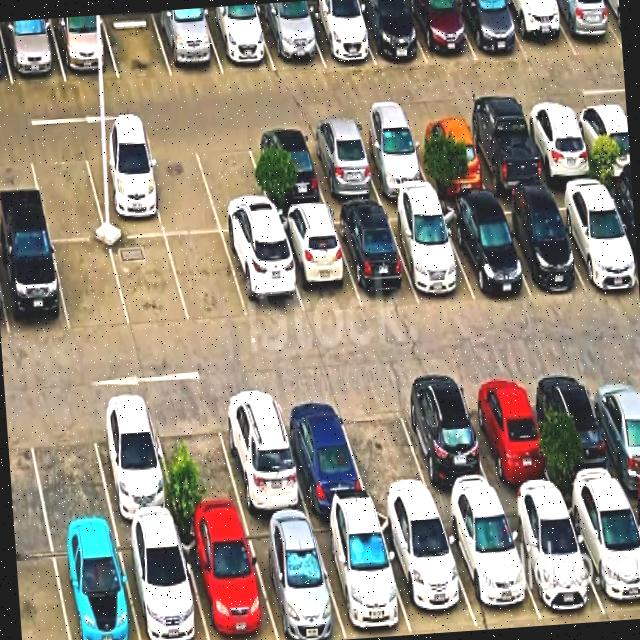empty: (335, 385, 434, 506), (150, 399, 245, 523), (24, 403, 113, 532), (193, 132, 275, 232), (141, 139, 220, 235), (28, 144, 105, 240), (109, 236, 189, 328), (166, 233, 247, 323), (52, 240, 129, 332), (102, 11, 172, 78)
occupied: (394, 378, 499, 506), (310, 511, 411, 639), (500, 498, 605, 620), (438, 502, 541, 626), (459, 373, 558, 500), (243, 518, 346, 640), (375, 509, 477, 632), (214, 388, 308, 518), (179, 521, 277, 640), (275, 390, 369, 513), (87, 400, 178, 526), (532, 369, 623, 495), (116, 524, 208, 640), (562, 489, 640, 621), (50, 529, 139, 640), (491, 196, 584, 296), (438, 201, 531, 301), (549, 186, 638, 289), (275, 210, 361, 315), (330, 206, 418, 307), (384, 204, 475, 301), (82, 142, 164, 238), (222, 230, 304, 318), (584, 366, 640, 488), (0, 238, 69, 337), (462, 112, 546, 193), (246, 129, 327, 211), (303, 125, 381, 204), (353, 122, 432, 199), (408, 117, 489, 192), (520, 106, 597, 184), (201, 7, 275, 74), (152, 8, 223, 76), (352, 0, 426, 65), (302, 2, 375, 67), (49, 15, 118, 82), (501, 0, 576, 61), (571, 102, 631, 178), (405, 0, 476, 64), (256, 5, 324, 70), (455, 0, 527, 61), (0, 18, 65, 85), (549, 0, 622, 56), (604, 184, 637, 269), (600, 0, 622, 45), (623, 487, 640, 535)
